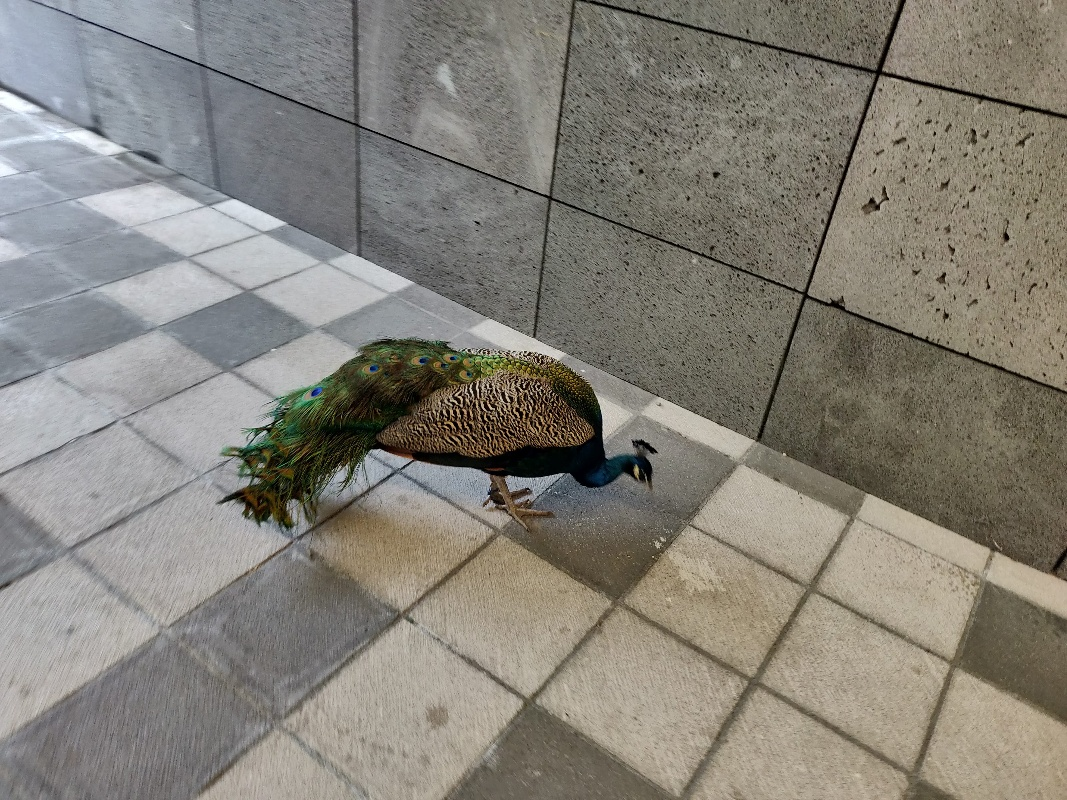pavoreal: (403, 346, 655, 496)
